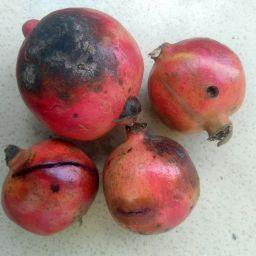pomegranate: (16, 8, 143, 140), (147, 37, 246, 146), (103, 125, 200, 236), (3, 138, 99, 234)
